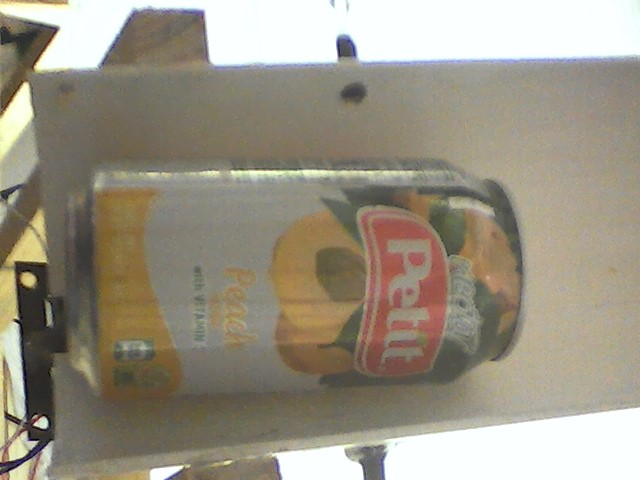lata: (65, 153, 533, 407)
